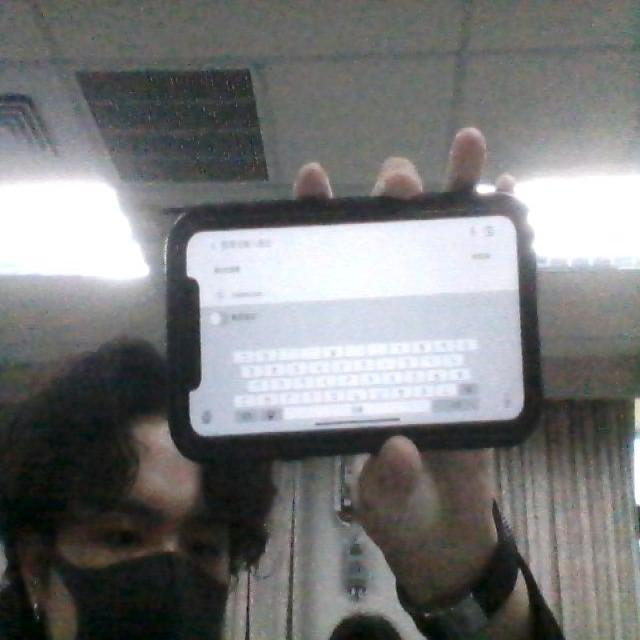phone: (154, 164, 560, 482)
